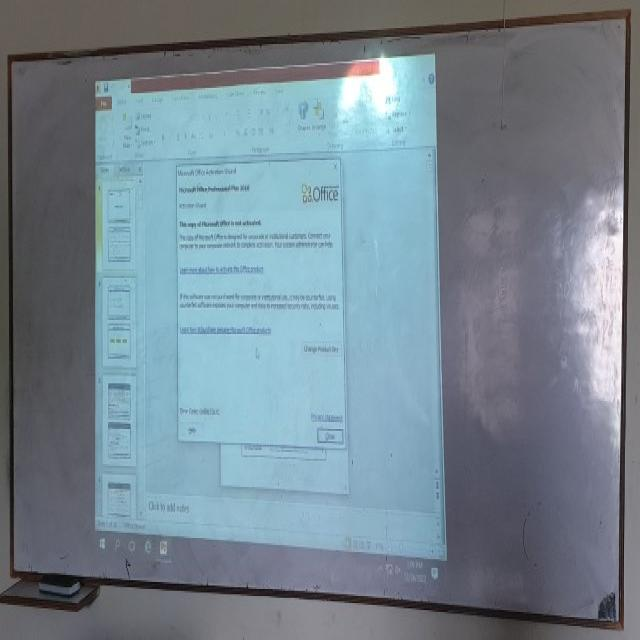Slide: (96, 53, 450, 584)
White-board: (8, 16, 630, 627)
